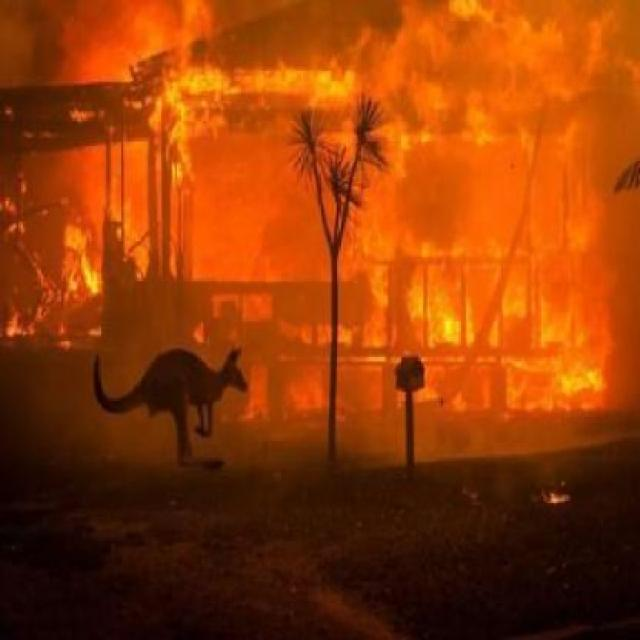Fire: (0, 0, 638, 426)
